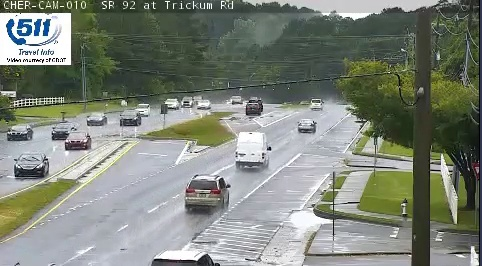car: (184, 175, 229, 207), (298, 119, 316, 132), (310, 99, 323, 110)
van: (236, 132, 267, 166)
